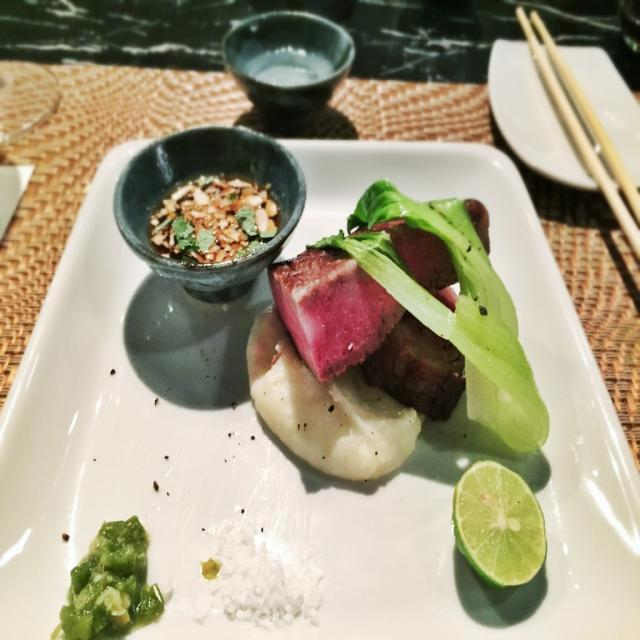Lemon: (454, 459, 547, 590)
